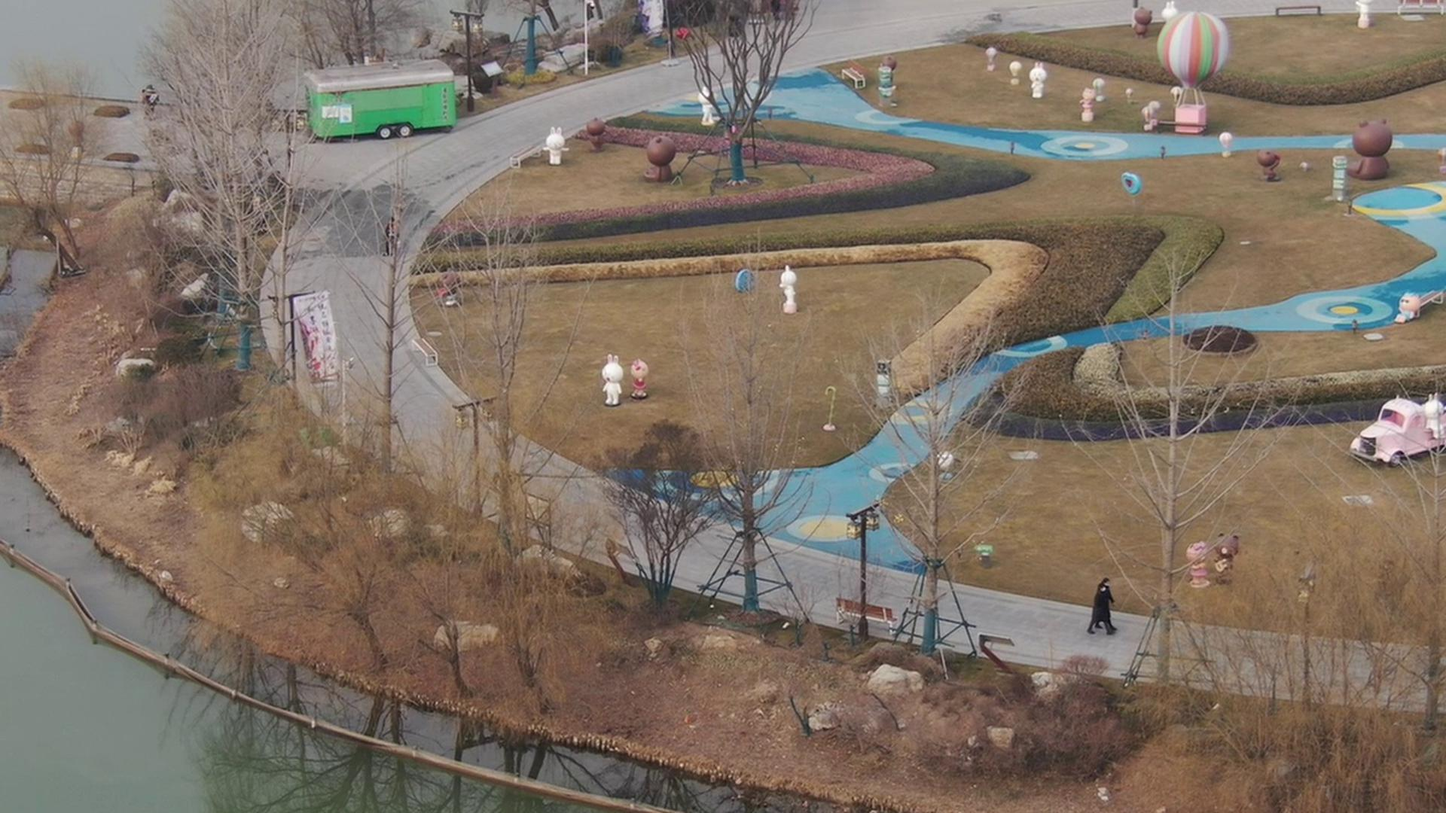class_2: (1081, 562, 1121, 641)
human: (374, 213, 397, 262)
